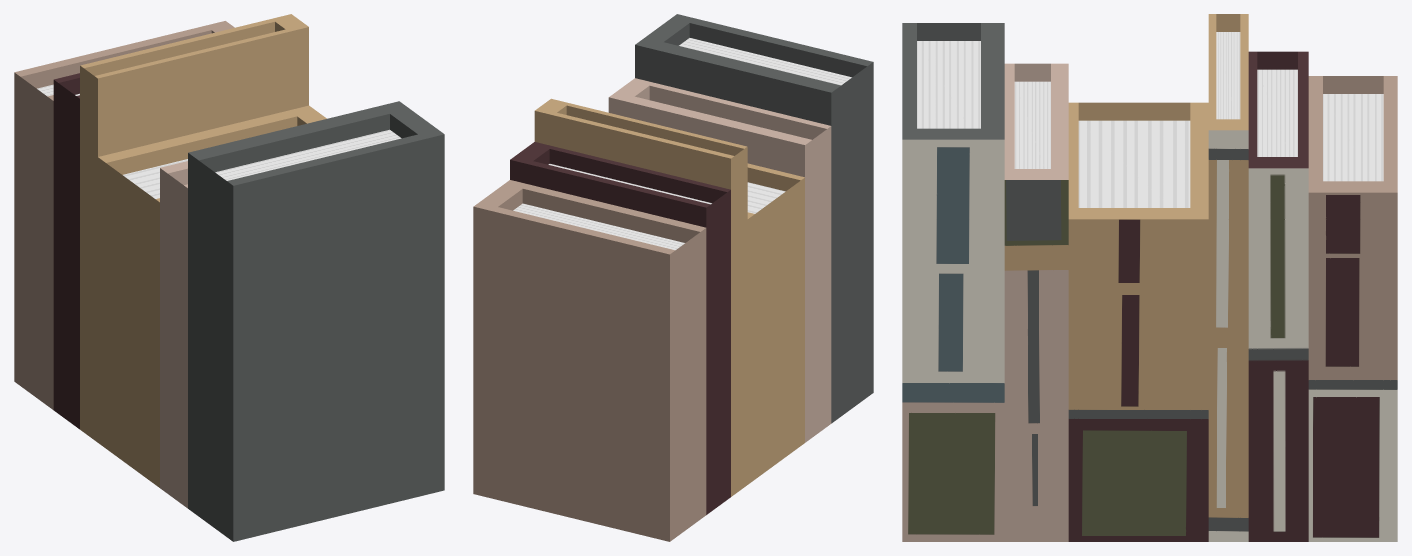
The model's file is Books.fbx.
3 views of the same model, side by side, from view 1: azimuth 30°, elevation 25°; view 2: azimuth 150°, elevation 25°; view 3: azimuth 270°, elevation 25° (orthographic). The views are drawn at different scales.
Parts seen in each view (by area): view 1: Cube; view 2: Cube; view 3: Cube.
Part boxes in pixels (x1,y1,x2,y2): Cube: [14, 14, 444, 541]; Cube: [473, 14, 873, 541]; Cube: [902, 14, 1397, 541].
Size of the model in its own units: 200 by 330 by 359.
